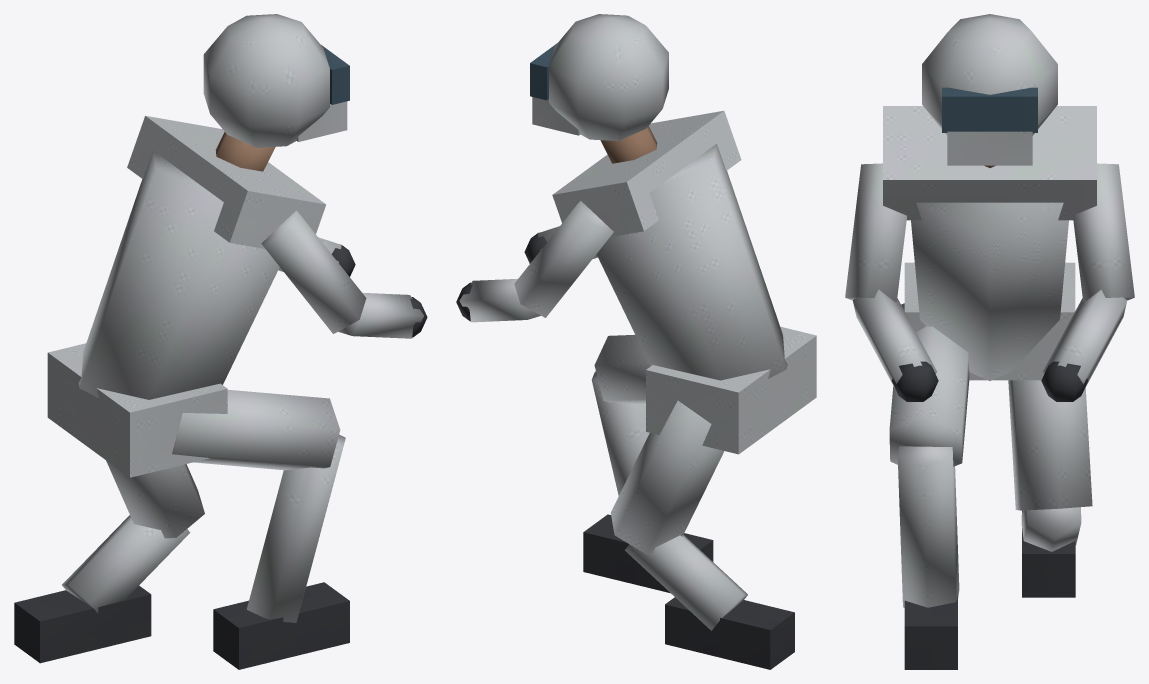
Rendered from crew-mechanic-crouched_mobile.glb.
3 views of the same model, side by side, from view 1: azimuth 30°, elevation 25°; view 2: azimuth 150°, elevation 25°; view 3: azimuth 270°, elevation 25° (orthographic). The views are drawn at different scales.
Parts seen in each view (by area): view 1: clothing, rubber, skin, glazing; view 2: clothing, rubber, skin, glazing; view 3: clothing, rubber, glazing.
Boxes of the visible parts, left/top/right/bottom form: clothing: left=47, top=14, right=423, bottom=622; rubber: left=14, top=245, right=427, bottom=669; skin: left=215, top=132, right=275, bottom=171; glazing: left=321, top=45, right=349, bottom=104; clothing: left=459, top=14, right=816, bottom=630; rubber: left=456, top=232, right=794, bottom=669; skin: left=600, top=126, right=657, bottom=163; glazing: left=530, top=43, right=557, bottom=100; clothing: left=845, top=14, right=1134, bottom=607; rubber: left=891, top=361, right=1088, bottom=669; glazing: left=942, top=87, right=1037, bottom=132.
Size of the model in its own units: 0.7431 by 1.3 by 0.5423.
Materials: 4 (2 with a texture image).
